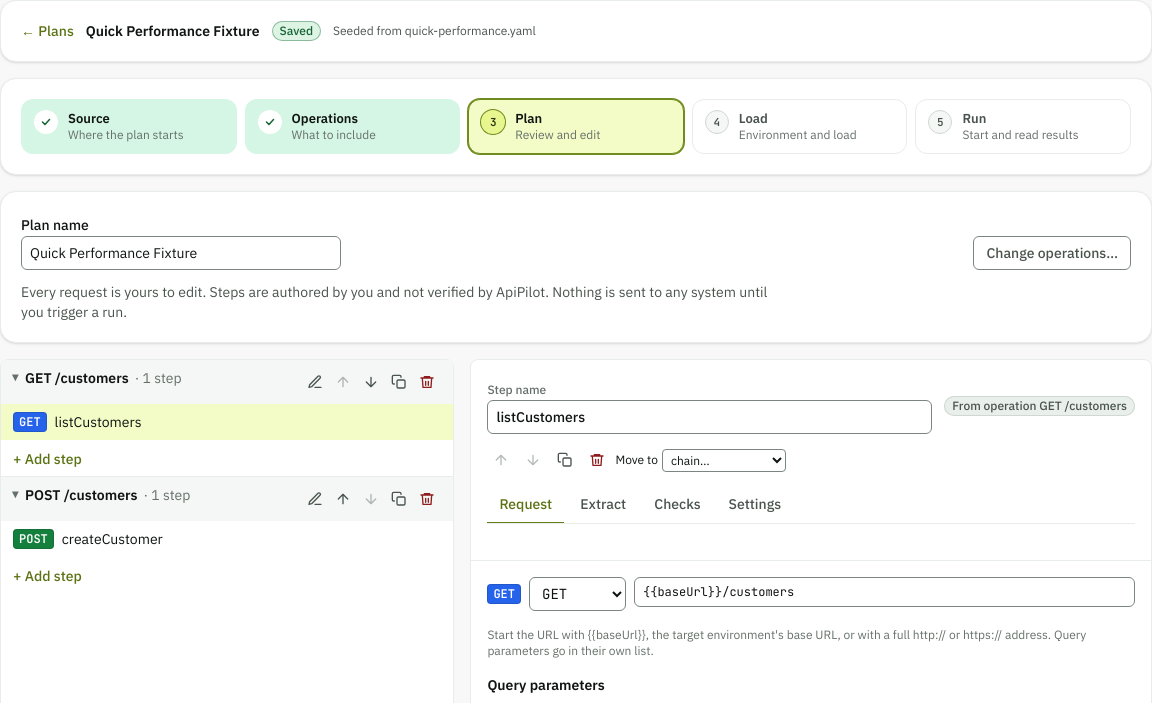
Scenario: Change operations on the Plan step › merges the new selection in specification order, closes, and says what it did
This screenshot has width=1152, height=703.
Expected: the field labelled "Plan name" is shown, [21,236,341,270]
Click the button "Change operations…" at (1052, 253), box [973,236,1131,270]
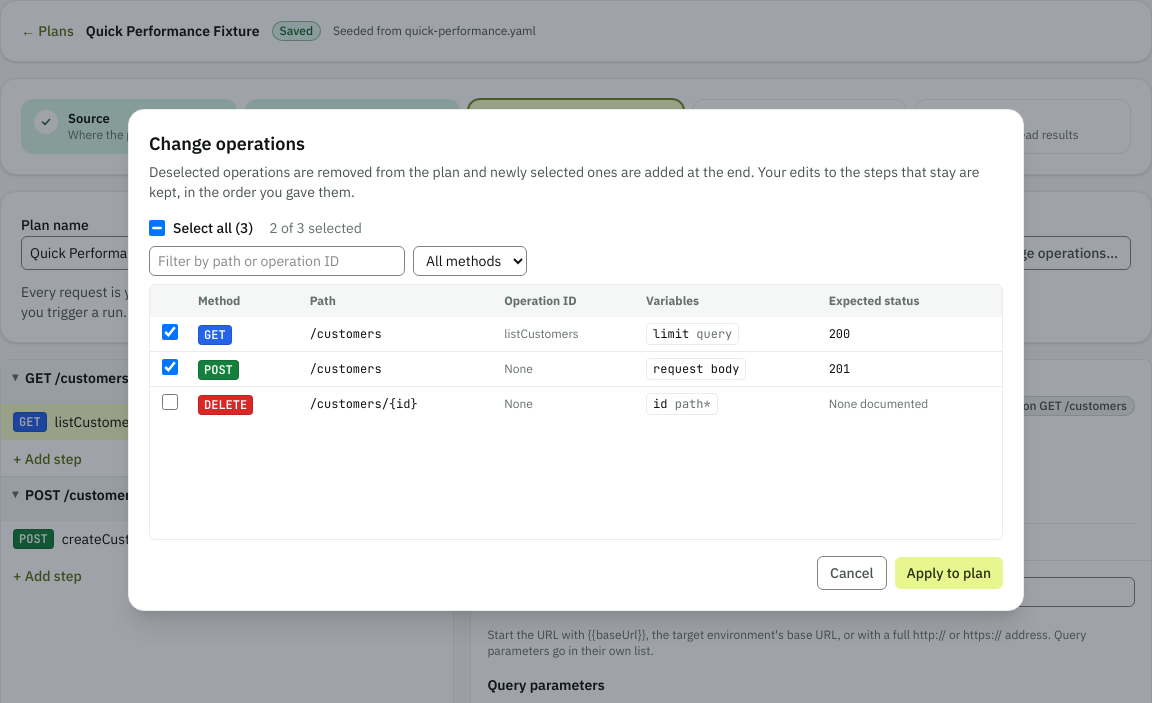
Click the checkbox named "DELETE /customers/{id}" at (170, 402), box [162,394,178,410]
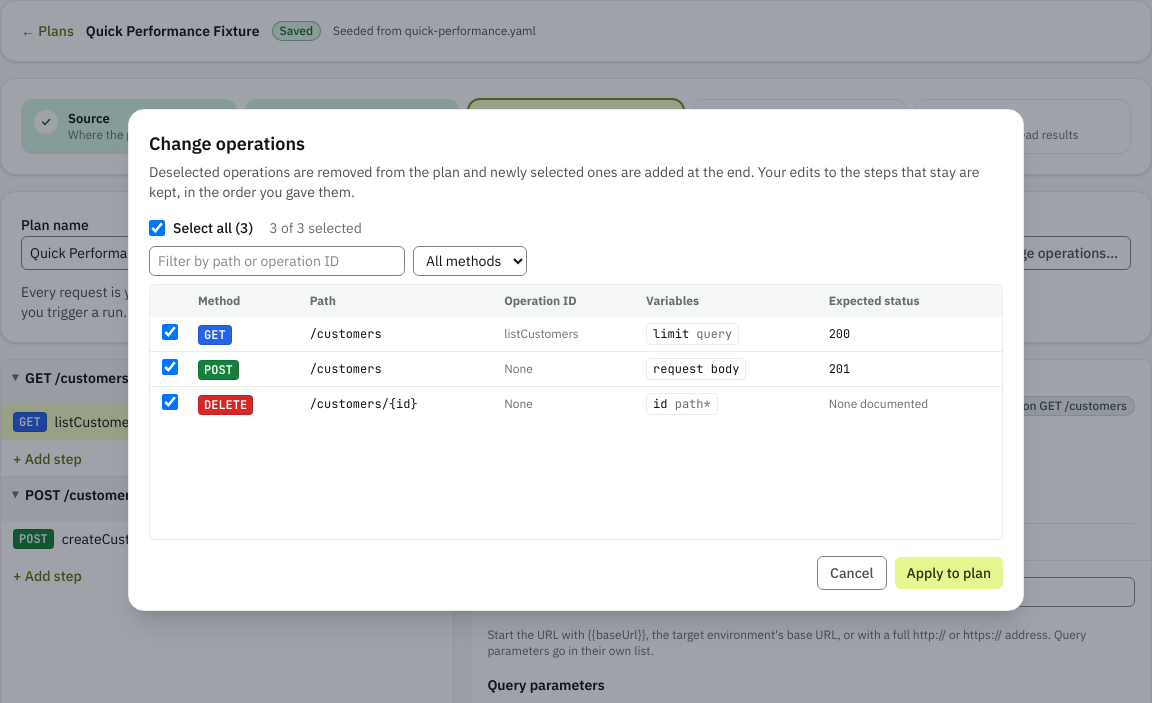
Click the button "Apply to plan" at (949, 573), box [894,557,1003,589]
(page scrolled)
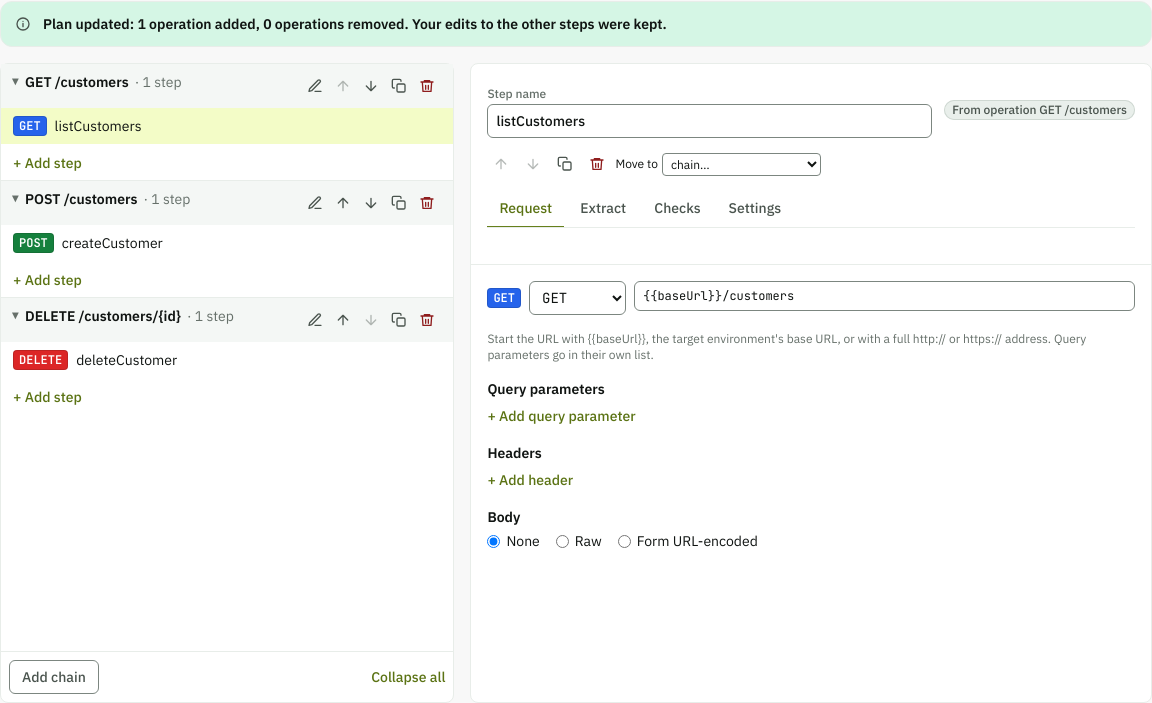
Expected: the dialog with test id "change-operations-panel" is gone
Expected: the message with test id "reselect-notice" shows "Plan updated: 1 operation added, 0 operations removed. Your edits to the other steps were kept.", [43,15,667,33]
Expected: the text "deleteCustomer" is shown, [76,351,177,369]
